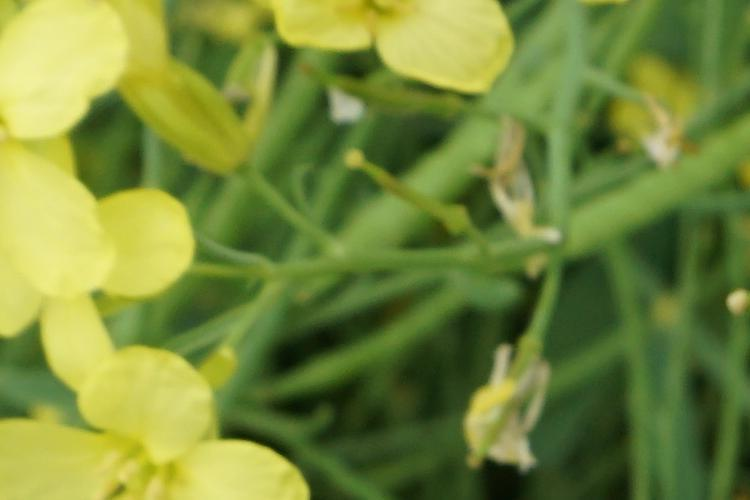yellow: (4, 330, 316, 491), (18, 22, 117, 294), (276, 6, 528, 94), (448, 341, 572, 478)
